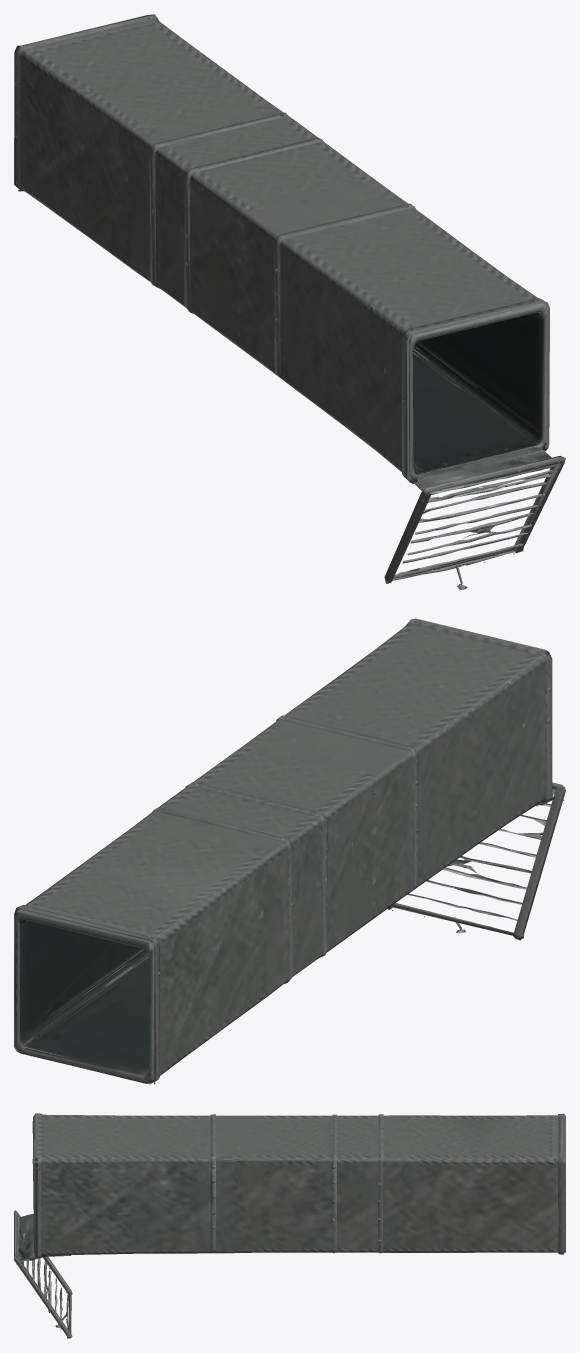
Rendered from duct.glb.
The picture shows the model from 3 angles, top to bottom: view 1: azimuth 30°, elevation 25°; view 2: azimuth 150°, elevation 25°; view 3: azimuth 270°, elevation 25°; orthographic projection. The views are drawn at different scales.
Bounding box in the file's own units: 0.203 × 0.3837 × 1.
1 material, 1 textured.
